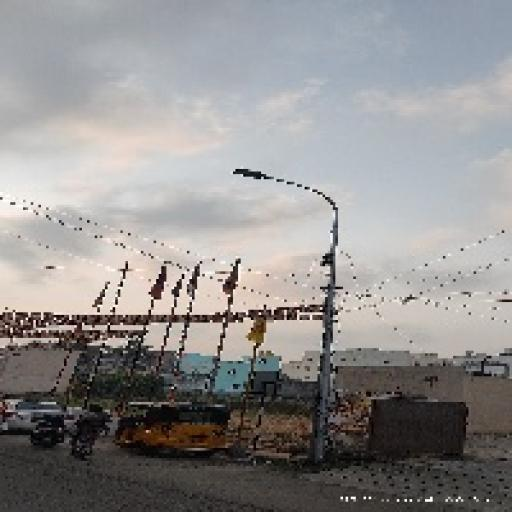Not Working: (226, 162, 272, 184)
